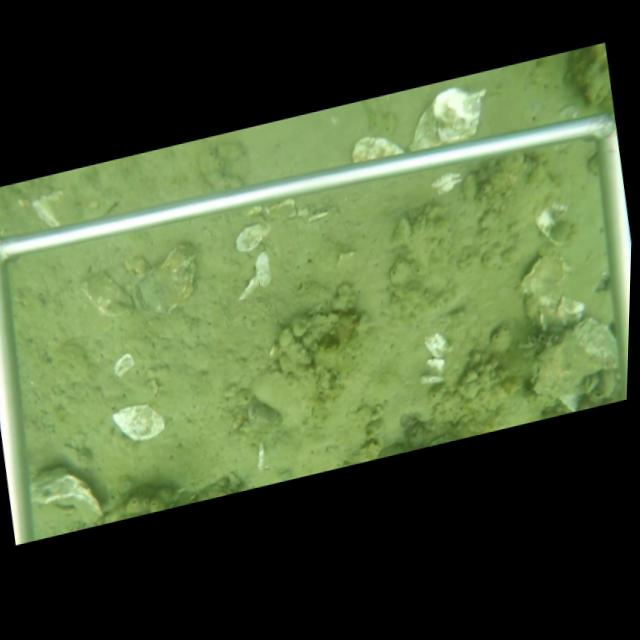Oyster-Closed: (529, 313, 620, 401)
Oyster-Indeterminate: (131, 240, 198, 320)
